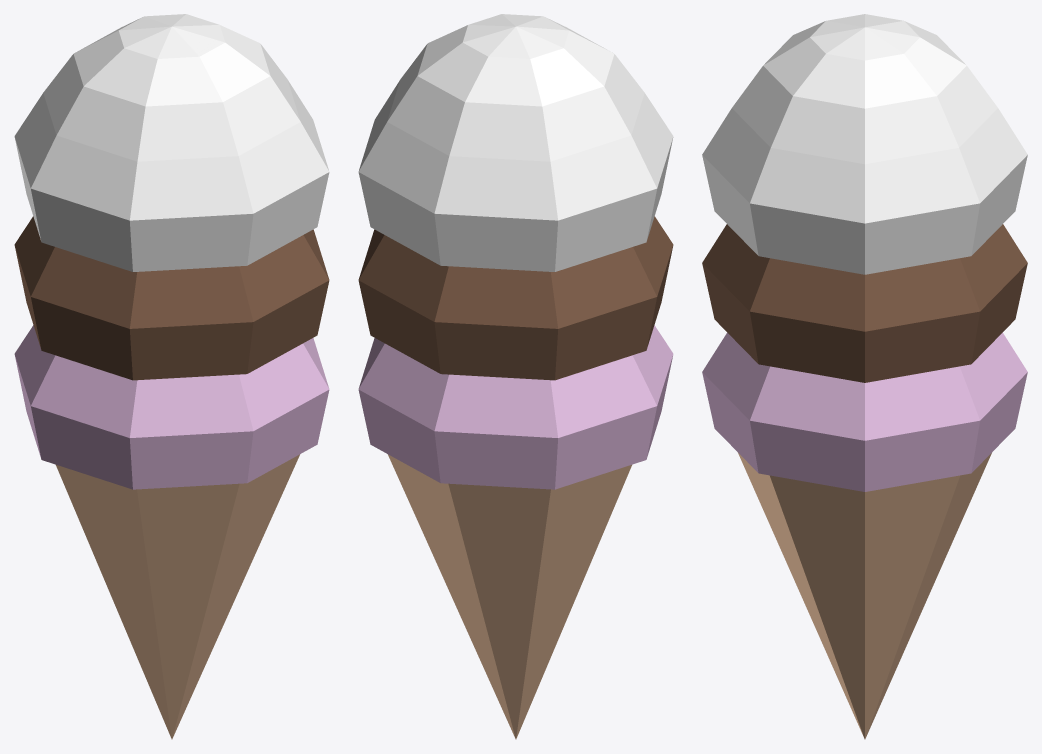
The model's file is IceCream.fbx.
The picture shows the model from 3 angles, left to right: view 1: azimuth 30°, elevation 25°; view 2: azimuth 150°, elevation 25°; view 3: azimuth 270°, elevation 25°; orthographic projection.
Parts seen in each view (by area): view 1: pSphere3, pSphere1, pSphere2, pCylinder1; view 2: pSphere3, pSphere1, pSphere2, pCylinder1; view 3: pSphere3, pSphere1, pSphere2, pCylinder1.
Boxes of the visible parts, x1=… form: pSphere3: x1=14, y1=14, x2=329, y2=271; pSphere1: x1=14, y1=325, x2=329, y2=489; pSphere2: x1=14, y1=216, x2=329, y2=380; pCylinder1: x1=56, y1=454, x2=299, y2=739; pSphere3: x1=358, y1=14, x2=673, y2=271; pSphere1: x1=358, y1=325, x2=673, y2=489; pSphere2: x1=358, y1=216, x2=673, y2=380; pCylinder1: x1=388, y1=454, x2=631, y2=739; pSphere3: x1=702, y1=14, x2=1027, y2=274; pSphere1: x1=702, y1=332, x2=1027, y2=491; pSphere2: x1=702, y1=224, x2=1027, y2=382; pCylinder1: x1=738, y1=453, x2=991, y2=739.
Size of the model in its own units: 2.36 by 5.69 by 2.36.
